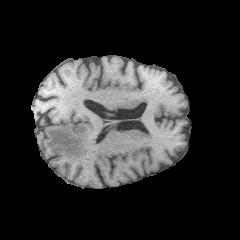glioma: (46, 127, 89, 159)
